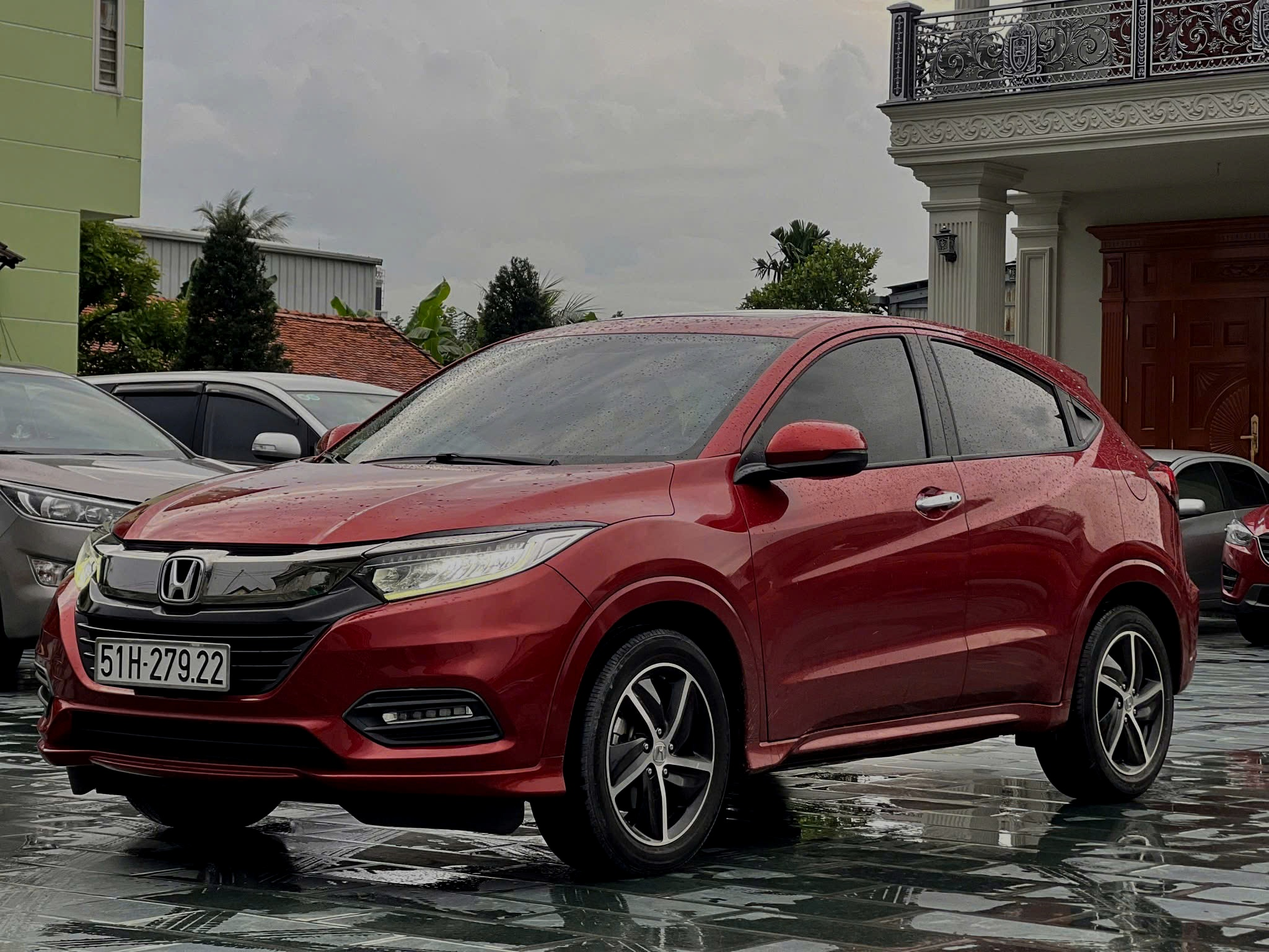Bien-so: (93, 641, 231, 687)
